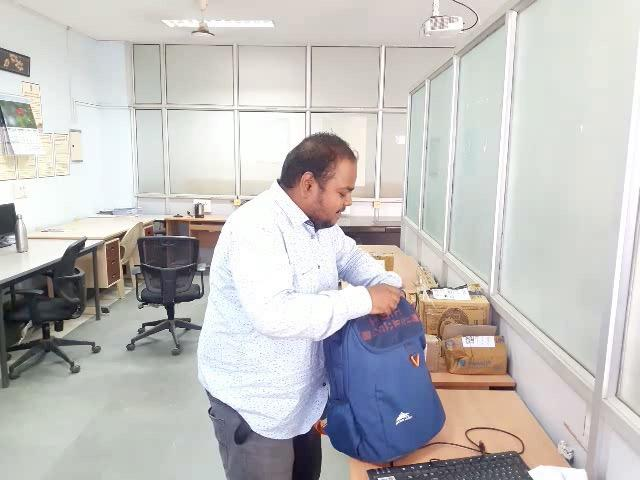shoplifting: (149, 236, 491, 434)
